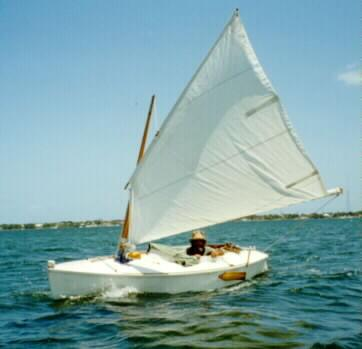Ship: (50, 8, 343, 299)
